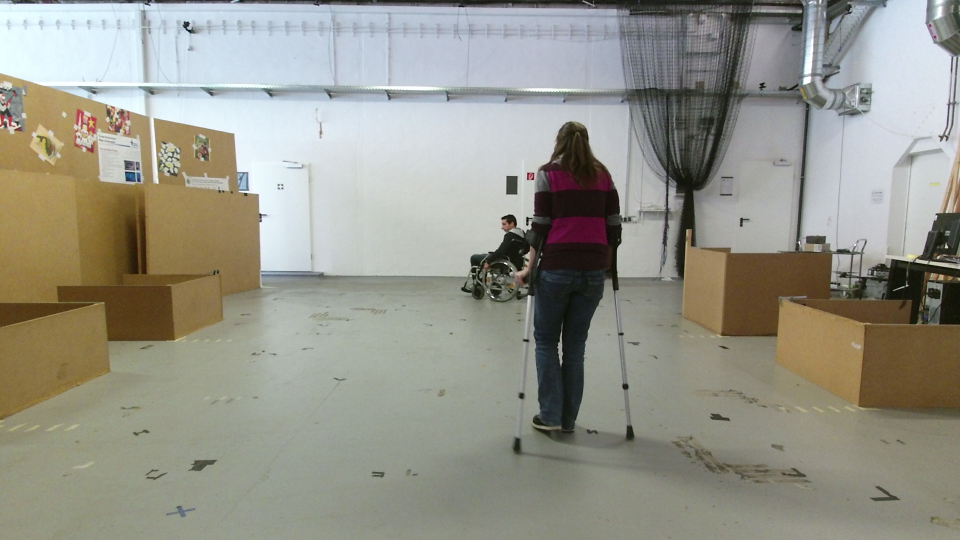crutches: (509, 115, 641, 459)
wheelchair: (458, 209, 531, 304)
